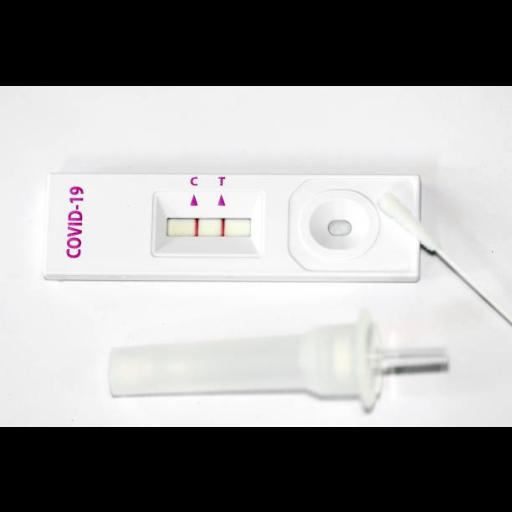Pos: (48, 172, 420, 278)
